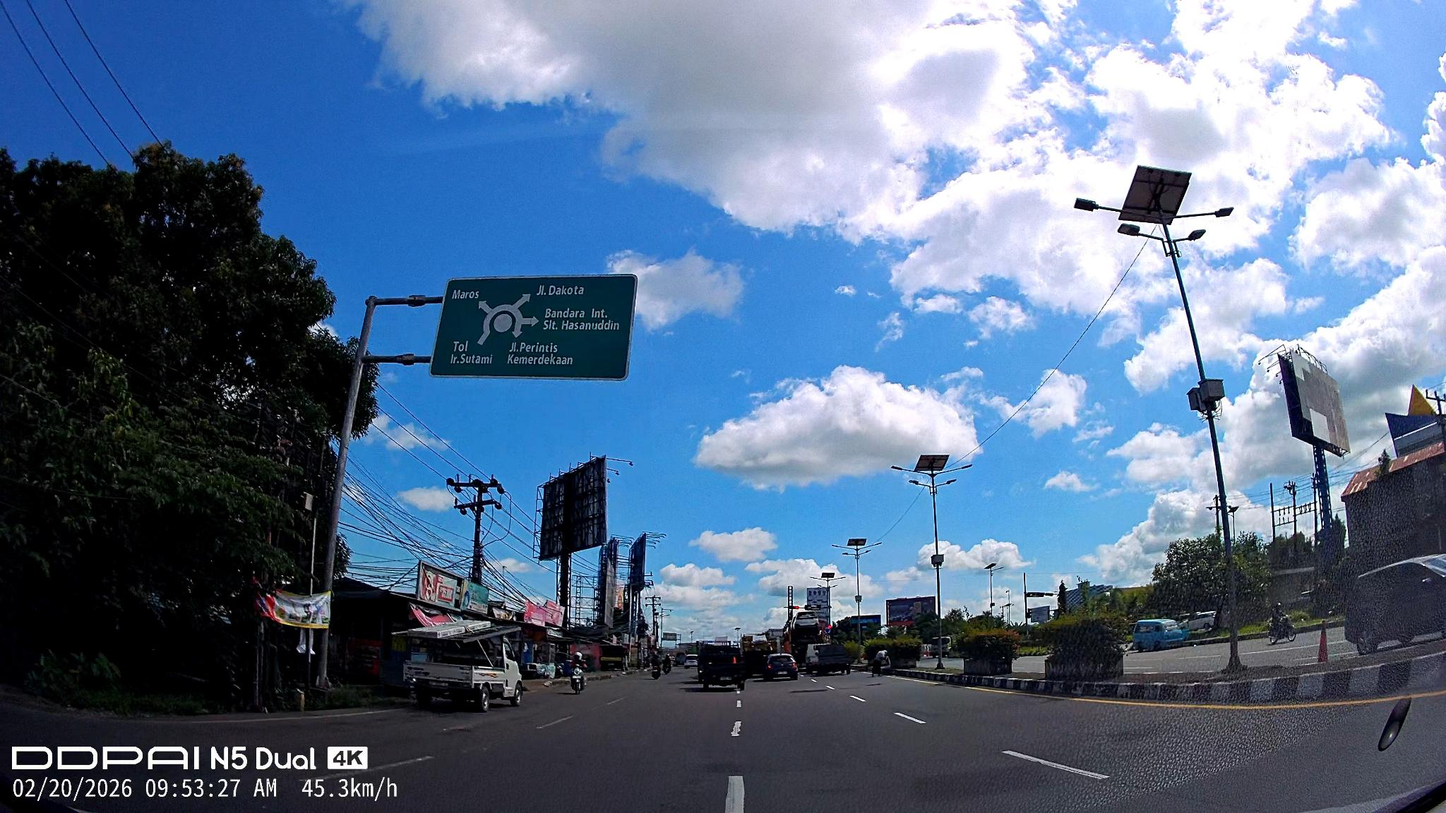rambu_teks: (429, 274, 639, 382)
